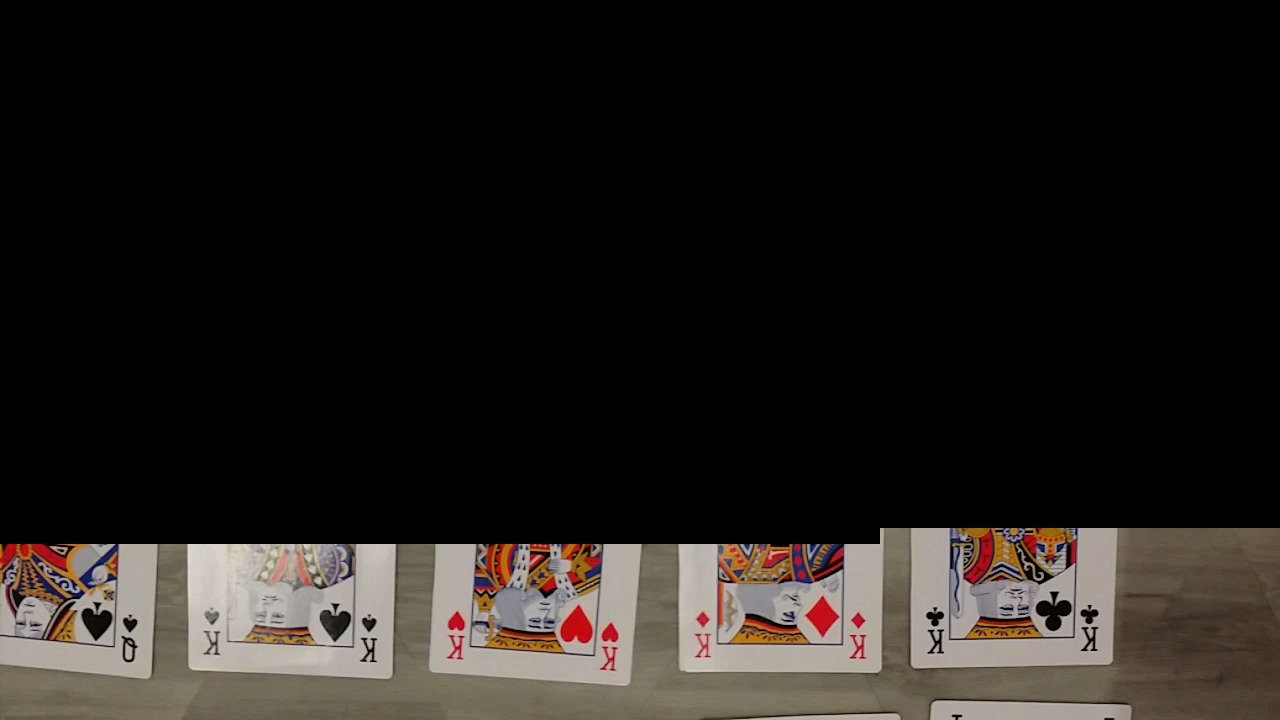1_heart: (0, 67, 246, 378)
3_heart: (229, 32, 476, 349)
king_club: (1098, 480, 1280, 720)
king_diamond: (666, 459, 886, 720)
king_heart: (660, 462, 889, 720)
king_spade: (139, 443, 354, 720)
queen_spade: (0, 464, 214, 720)
